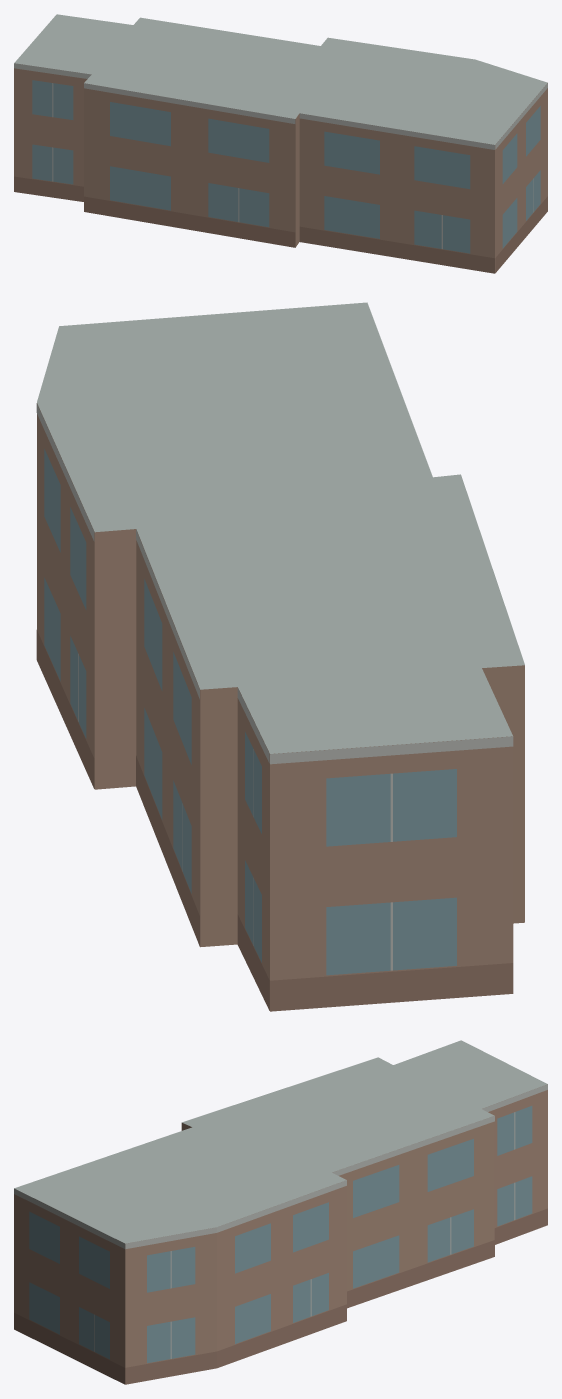
File: survey-upis-32977830.glb
3 renders of one model, top to bottom at view 1: azimuth 30°, elevation 25°; view 2: azimuth 150°, elevation 25°; view 3: azimuth 270°, elevation 25°, orthographic. The views are drawn at different scales.
Visible parts, largest first — view 1: survey-upis-32977830.tmp; view 2: survey-upis-32977830.tmp; view 3: survey-upis-32977830.tmp.
Part boxes in pixels (x1,y1,x2,y2): survey-upis-32977830.tmp: (14, 14, 547, 273); survey-upis-32977830.tmp: (36, 302, 524, 1011); survey-upis-32977830.tmp: (14, 1040, 547, 1384).
Bounding box in the file's own units: 18.87 × 6.1 × 20.93.
